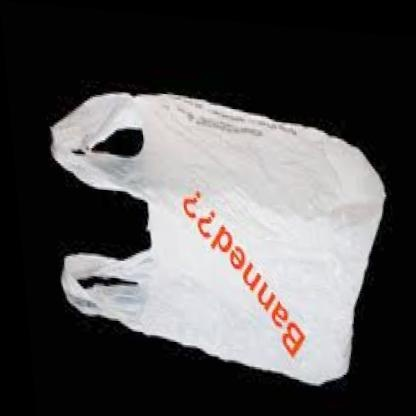trash: (51, 93, 384, 384)
